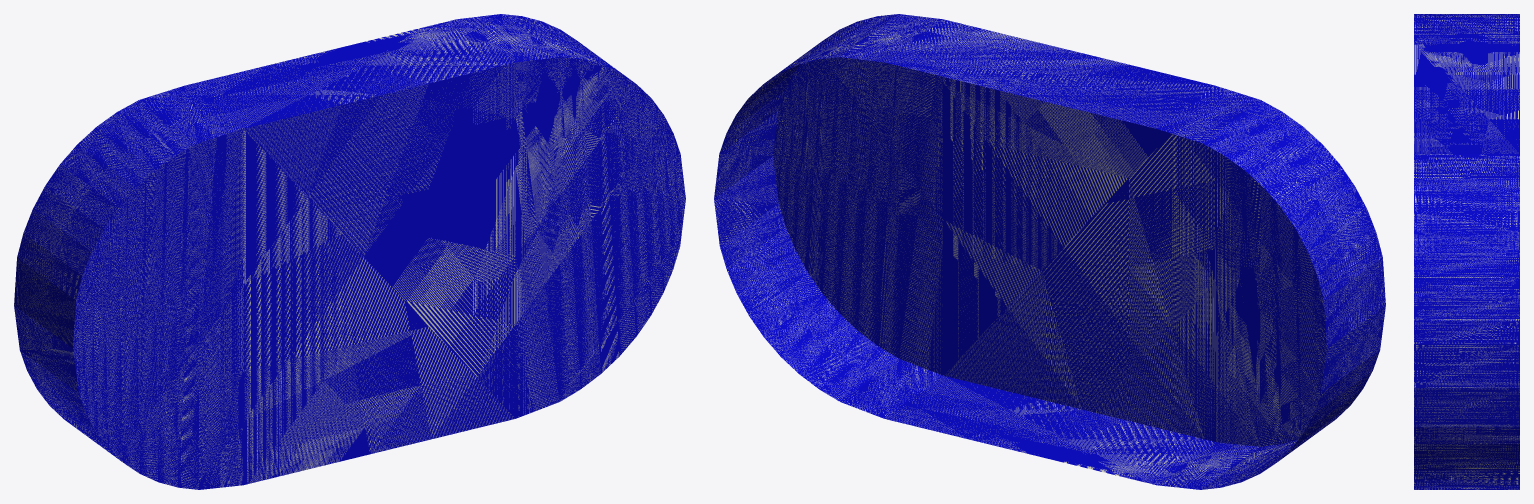
File: original-5.obj
3 renders of one model, left to right at view 1: azimuth 30°, elevation 25°; view 2: azimuth 150°, elevation 25°; view 3: azimuth 270°, elevation 25°, orthographic. The views are drawn at different scales.
Parts seen in each view (by area): view 1: mesh13/mesh13-geometry#mesh13-geometry; view 2: mesh13/mesh13-geometry#mesh13-geometry; view 3: mesh13/mesh13-geometry#mesh13-geometry.
Boxes of the visible parts, x1,y1,x2,y2 form: mesh13/mesh13-geometry#mesh13-geometry: (14, 14, 685, 489); mesh13/mesh13-geometry#mesh13-geometry: (714, 14, 1385, 489); mesh13/mesh13-geometry#mesh13-geometry: (1414, 14, 1519, 489).
Size of the model in its own units: 0.091 by 0.0506 by 0.0152.
